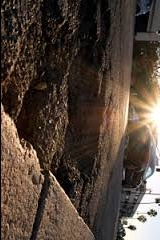pothole: (72, 0, 119, 212), (37, 0, 73, 170), (1, 0, 39, 148)
